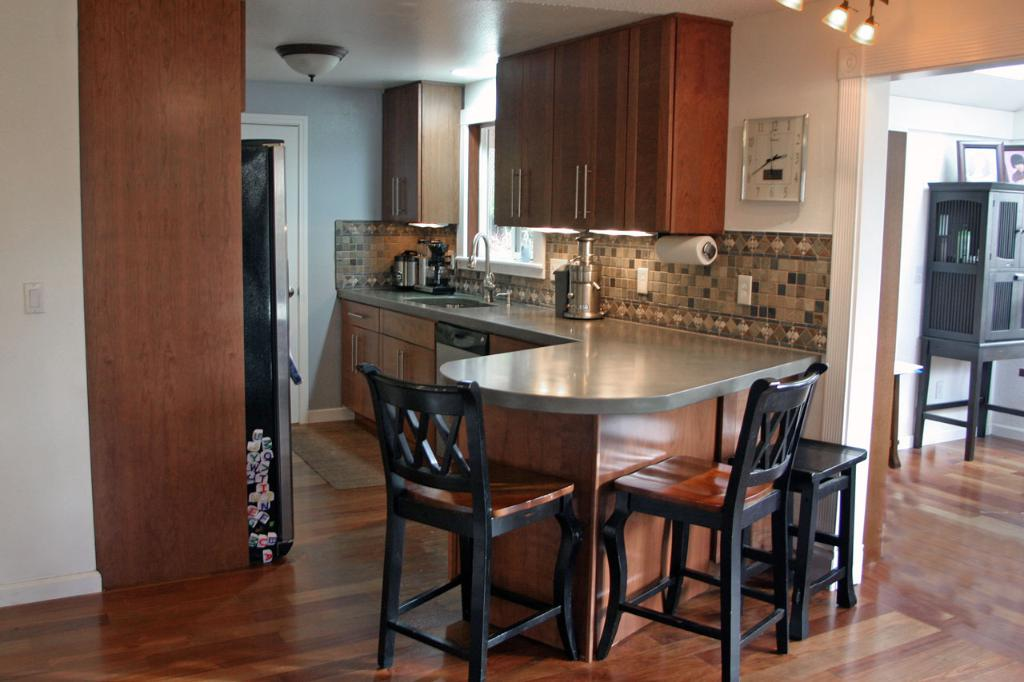cabinet door: (622, 34, 678, 224), (582, 40, 621, 232), (547, 49, 583, 237), (526, 64, 556, 229), (498, 70, 525, 225), (394, 85, 422, 217), (988, 186, 1024, 260), (382, 92, 398, 218), (993, 273, 1020, 332), (375, 337, 402, 388), (406, 342, 435, 388), (354, 331, 370, 414), (342, 321, 354, 405), (342, 305, 376, 333)
handle: (567, 165, 583, 224), (579, 161, 590, 224), (508, 171, 519, 225), (518, 167, 524, 223), (346, 310, 370, 324)
refrigerator door: (271, 143, 305, 544)
